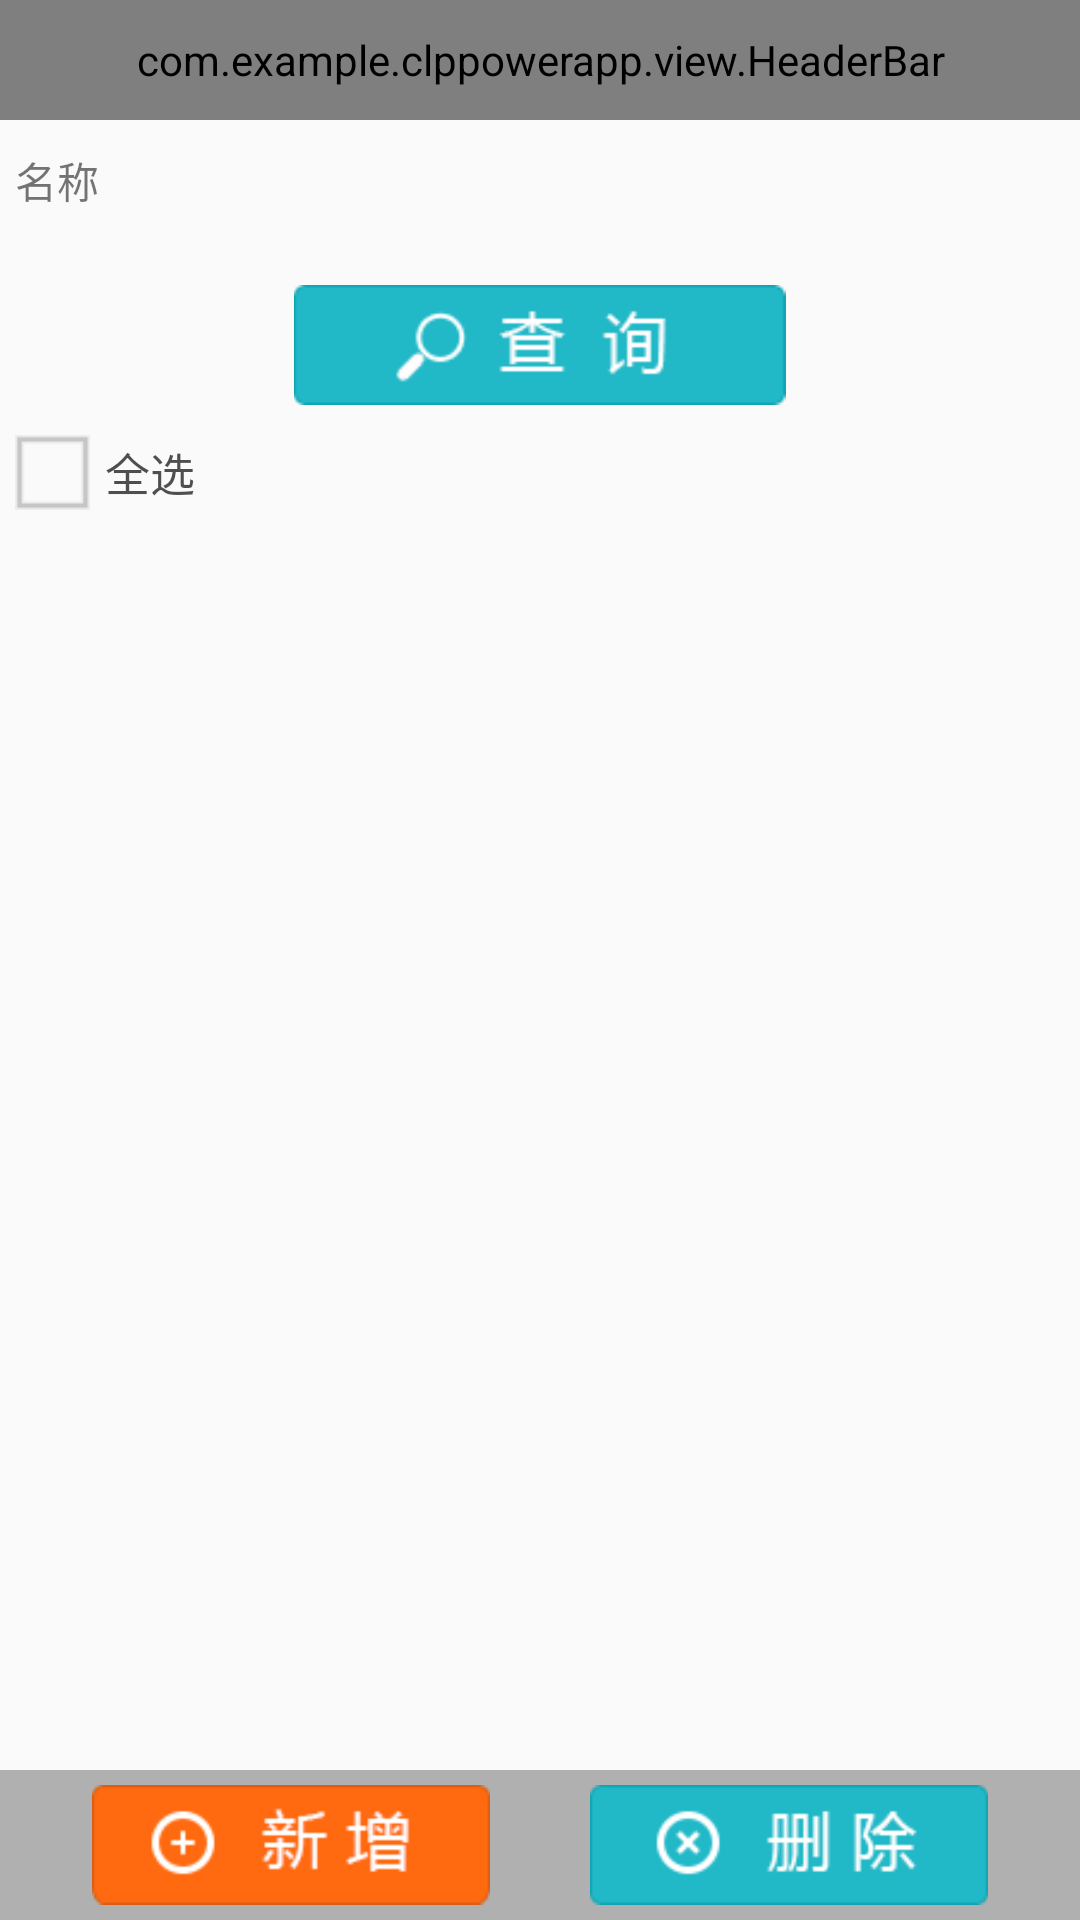

Icons on this 1080 × 1920 Android screen, each with the point to tap as (x,y):
check false: (52,472)
